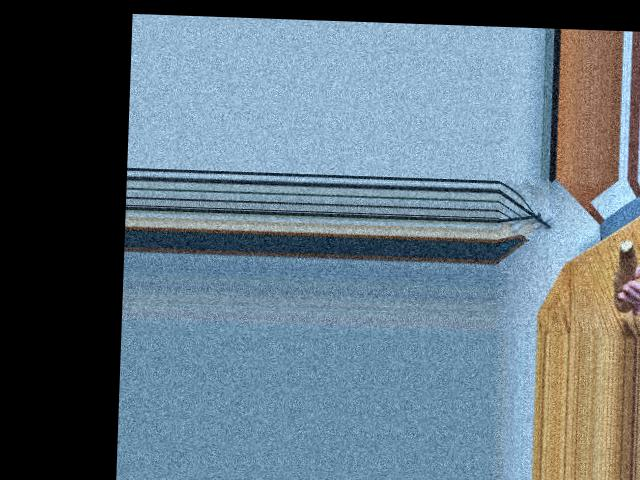sweet_potato: (606, 247, 635, 307)
